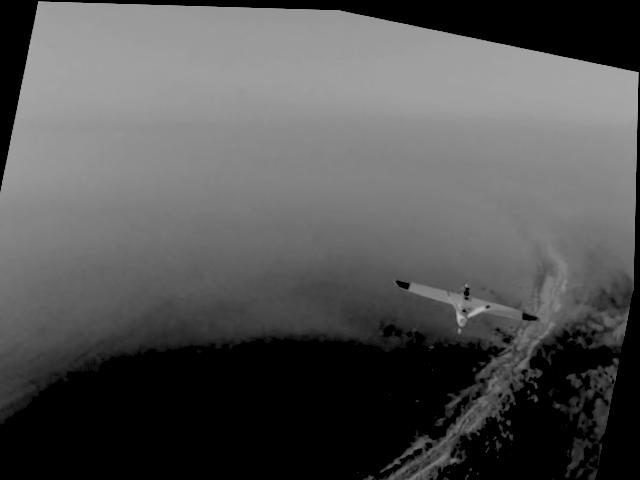hedef: (381, 248, 561, 358)
